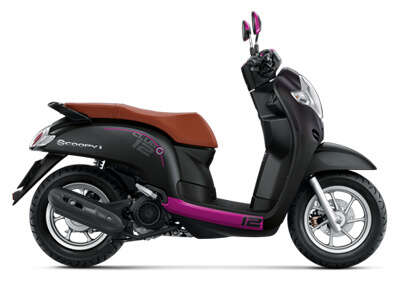motorcycle: (13, 11, 388, 268)
